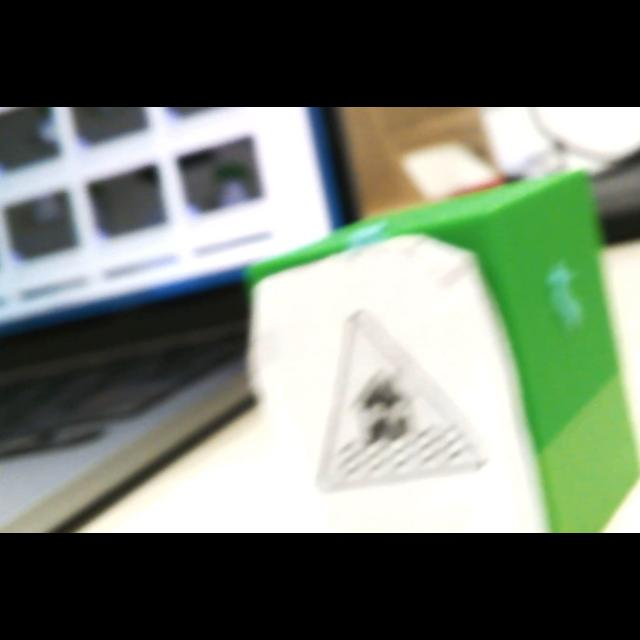Tsunami: (322, 310, 484, 487)
